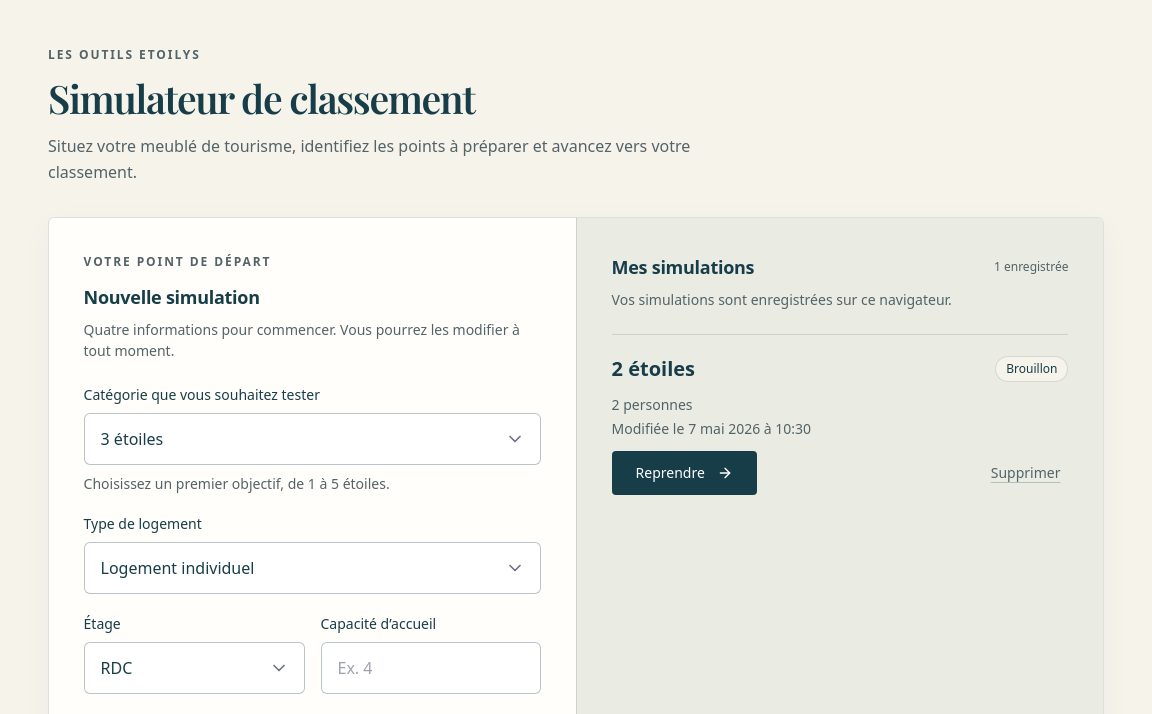
Test: Simulateur public de classement › annule la confirmation de suppression sans appel DELETE
Click the button "Supprimer" at (1026, 473), box [983, 451, 1068, 495]
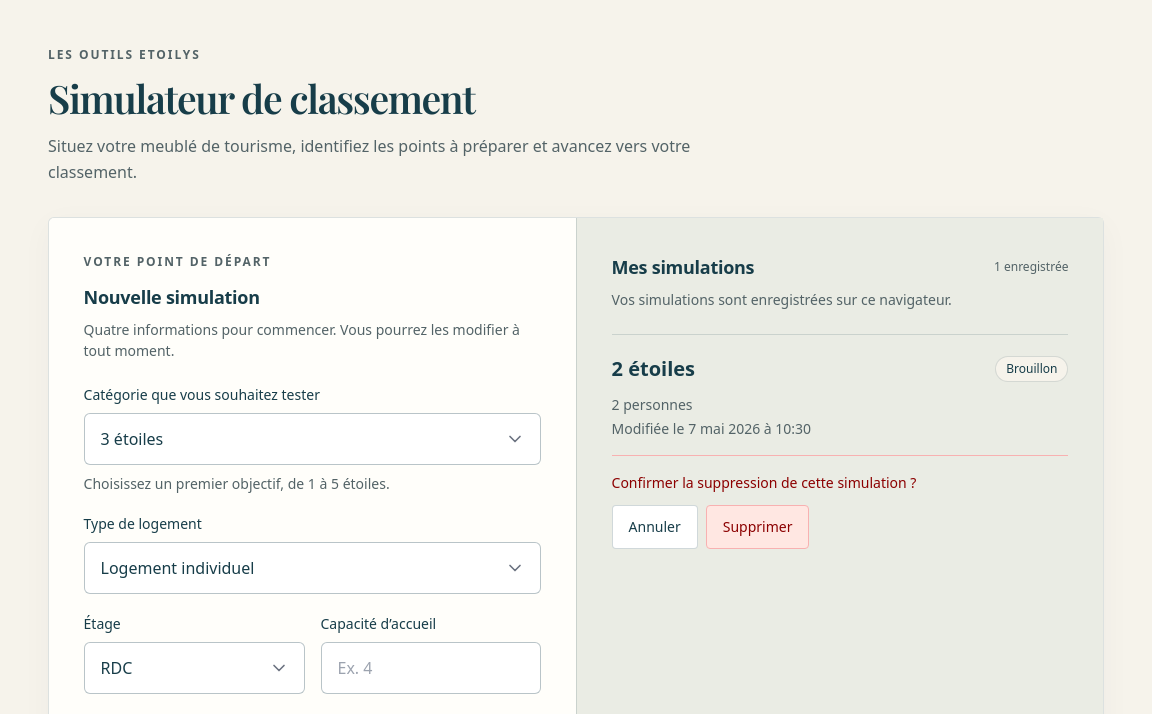
Expected: the text "Confirmer la suppression de cette simulation ?" is shown, [612, 473, 916, 492]
Click the button "Annuler" at (655, 527), box [612, 505, 698, 549]
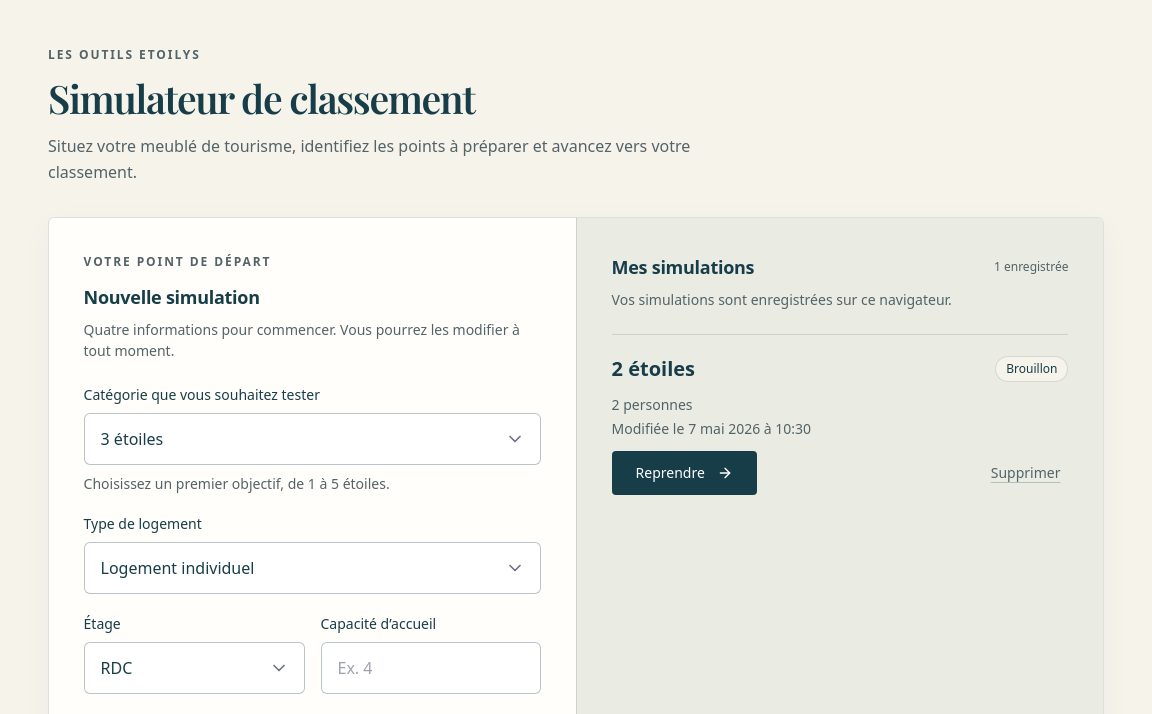
Expected: the text "Confirmer la suppression de cette simulation" is gone
Expected: the link "Reprendre" is shown, [612, 451, 757, 495]
